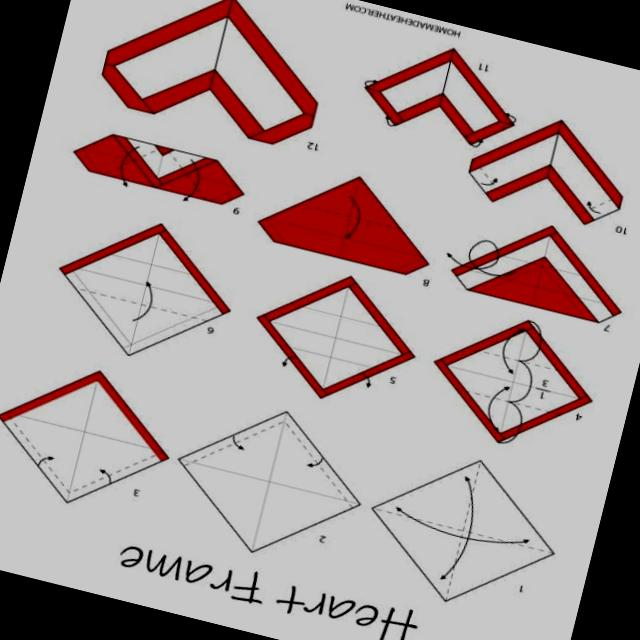arrow: (395, 477, 527, 578), (395, 506, 529, 543), (441, 476, 473, 578), (446, 238, 511, 275), (446, 252, 510, 276), (511, 321, 541, 361), (501, 329, 524, 373), (467, 238, 498, 270), (499, 400, 522, 442), (499, 401, 522, 443), (486, 385, 508, 428), (510, 360, 532, 403), (518, 320, 541, 361), (132, 281, 152, 320), (119, 146, 137, 185), (440, 549, 463, 578), (182, 161, 199, 200), (345, 195, 360, 237), (501, 338, 513, 373), (446, 252, 470, 267), (395, 506, 416, 520), (345, 217, 358, 237), (384, 113, 398, 126), (499, 433, 516, 443), (231, 435, 243, 449), (119, 164, 127, 185), (587, 201, 600, 213), (99, 469, 110, 483), (384, 114, 396, 126), (306, 457, 322, 466), (587, 202, 600, 213), (38, 456, 52, 466), (182, 189, 194, 200), (479, 178, 497, 185), (475, 461, 483, 475), (384, 115, 394, 126), (512, 328, 525, 336), (363, 374, 371, 386), (469, 139, 482, 146), (282, 356, 292, 365), (364, 79, 375, 87), (506, 113, 515, 122), (515, 538, 529, 542), (365, 377, 371, 386), (282, 357, 287, 365)
fold-line: (180, 419, 352, 507), (368, 503, 557, 558), (173, 454, 362, 507), (0, 408, 174, 457), (266, 214, 428, 260), (438, 458, 486, 604), (245, 406, 291, 556), (61, 367, 105, 506), (466, 267, 608, 308), (75, 266, 217, 306), (124, 220, 164, 358), (4, 410, 70, 493), (73, 285, 212, 324), (444, 363, 582, 402), (270, 319, 400, 356), (71, 269, 131, 344), (66, 449, 166, 493), (121, 305, 215, 349), (294, 198, 408, 234), (318, 284, 352, 389), (334, 173, 366, 261), (164, 146, 209, 201), (498, 252, 586, 280), (107, 252, 195, 278), (466, 388, 552, 414), (527, 234, 554, 308), (290, 344, 372, 368), (301, 304, 382, 328), (480, 349, 558, 373), (102, 145, 161, 175), (434, 44, 456, 112), (469, 157, 503, 197), (574, 194, 621, 216), (150, 146, 166, 188)
